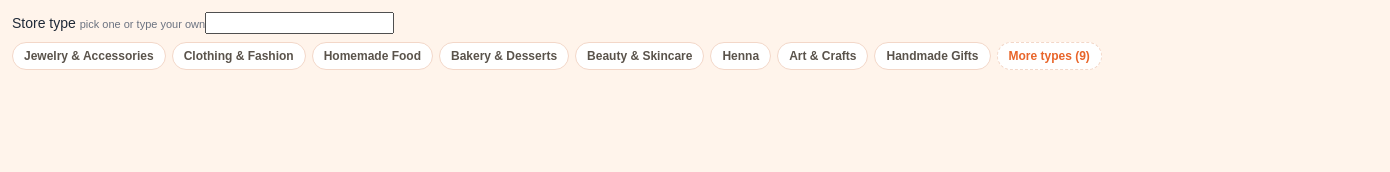
Test: CategoryField › shows more store types on request
Expected: the button "Services & Classes" is not shown
Step 1. Click the button "More types (9)" → (1049, 56), box [996,42,1102,70]
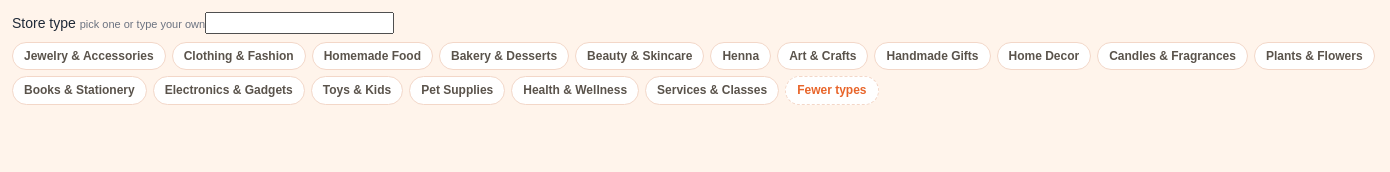
Now the button "Services & Classes" is shown, box [645,76,779,105]
Step 2. Click the button "Fewer types" → (832, 91), box [785,76,879,105]
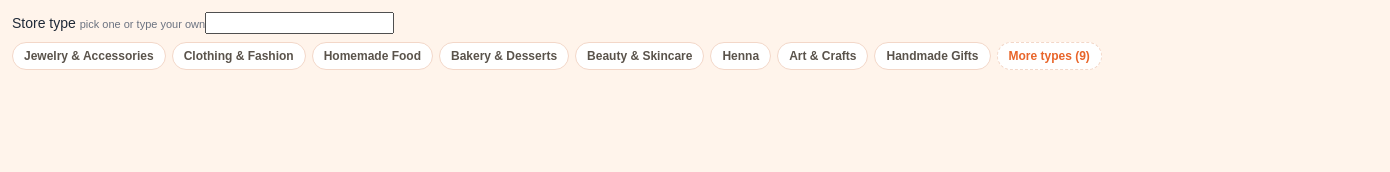
Now the button "Services & Classes" is gone
